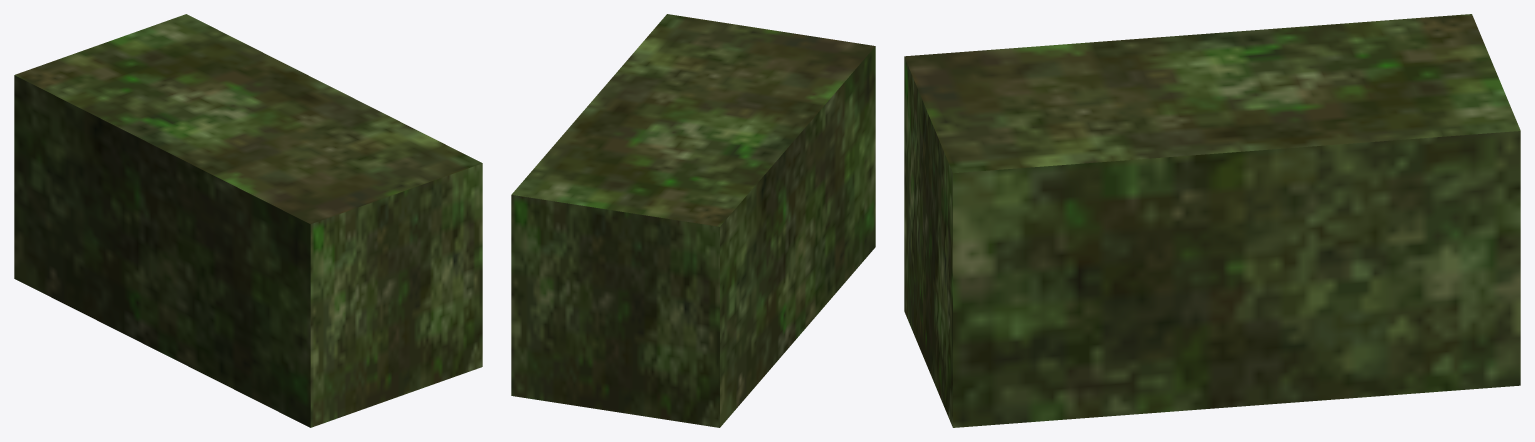
The model's file is OVERHILL_A_01_STONE_BLOCK_16.fbx.
3 views of the same model, side by side, from view 1: azimuth 30°, elevation 25°; view 2: azimuth 150°, elevation 25°; view 3: azimuth 270°, elevation 25° (orthographic). The views are drawn at different scales.
Visible parts, largest first — view 1: OVERHILL_A_01_STONE_BLOCK_16; view 2: OVERHILL_A_01_STONE_BLOCK_16; view 3: OVERHILL_A_01_STONE_BLOCK_16.
Boxes of the visible parts, x1,y1,x2,y2 form: OVERHILL_A_01_STONE_BLOCK_16: (14,14,482,427); OVERHILL_A_01_STONE_BLOCK_16: (511,14,875,427); OVERHILL_A_01_STONE_BLOCK_16: (904,14,1520,427).
Bounding box in the file's own units: 10611 × 7913 × 17360.
1 material, 1 textured.
